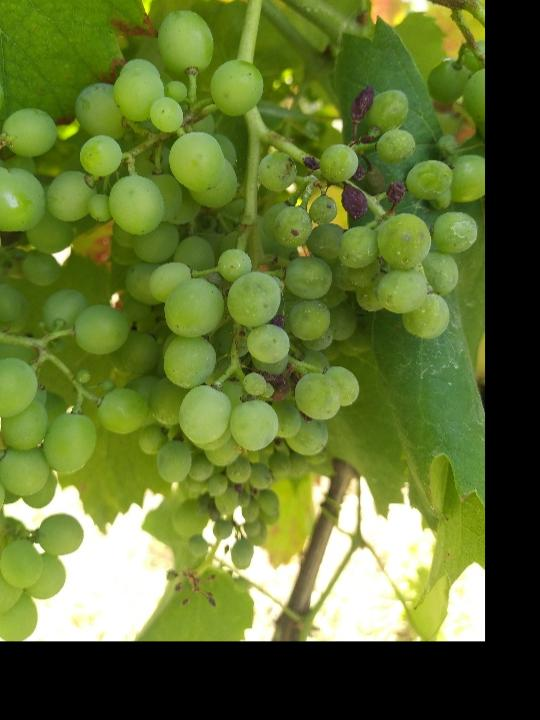grape: (43, 5, 483, 485)
